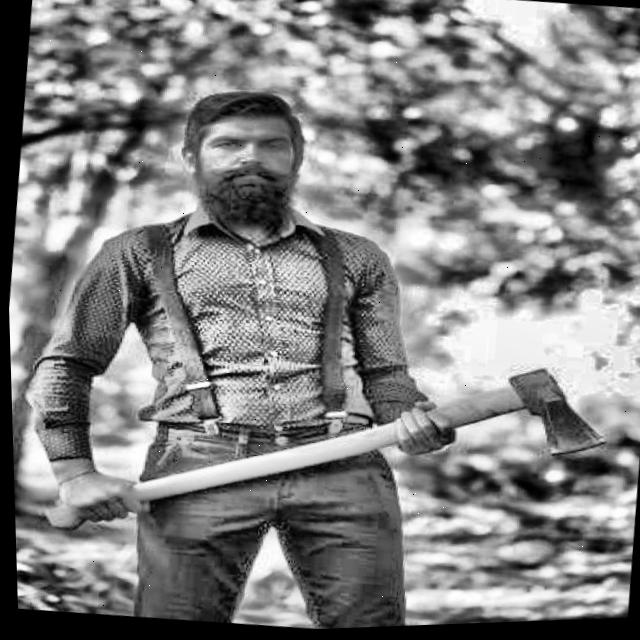kapak: (33, 351, 618, 532)
